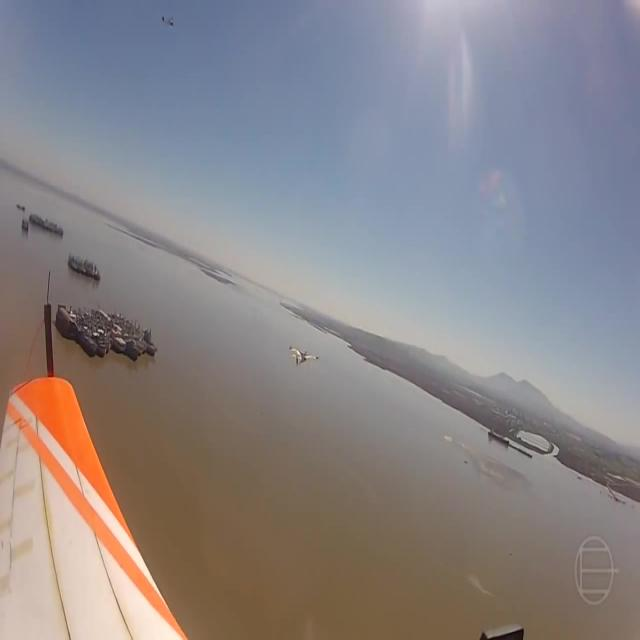iha: (289, 345, 320, 367), (161, 15, 176, 29)
